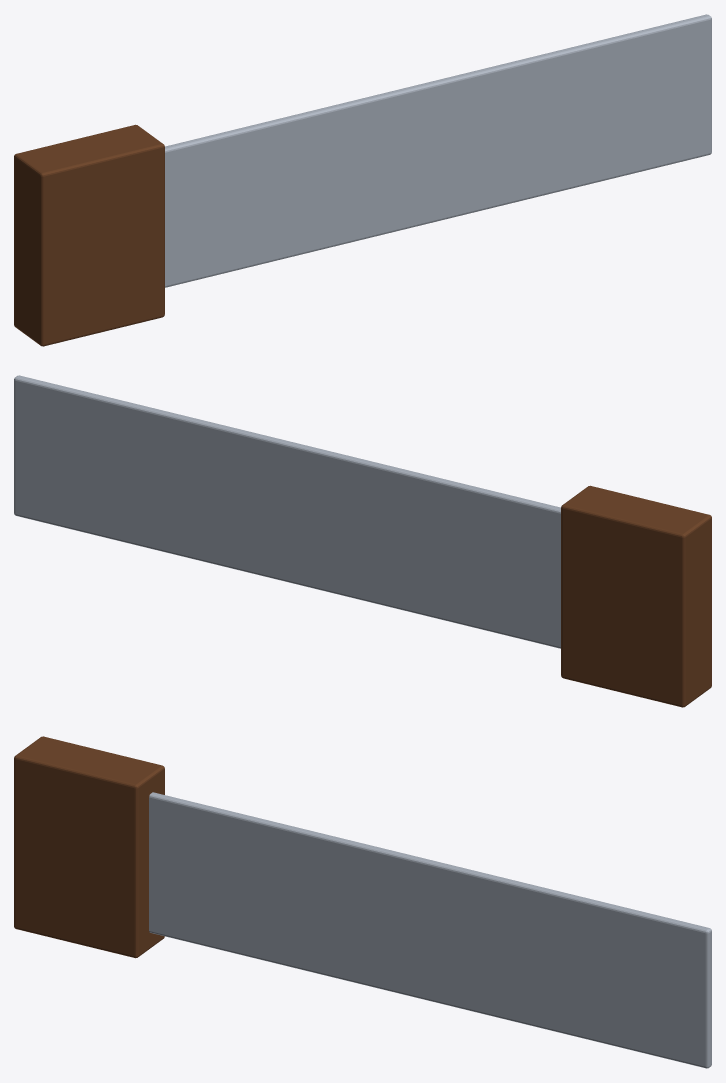
The model's file is saw.glb.
3 views of the same model, one above another, from view 1: azimuth 30°, elevation 25°; view 2: azimuth 150°, elevation 25°; view 3: azimuth 330°, elevation 25° (orthographic).
Parts seen in each view (by area): view 1: saw; view 2: saw; view 3: saw.
Part boxes in pixels (box(x1,y1,x2,y2)): saw: box(14, 14, 711, 346); saw: box(14, 375, 711, 707); saw: box(14, 736, 711, 1068).
Size of the model in its own units: 0.825 by 0.2 by 0.06.
